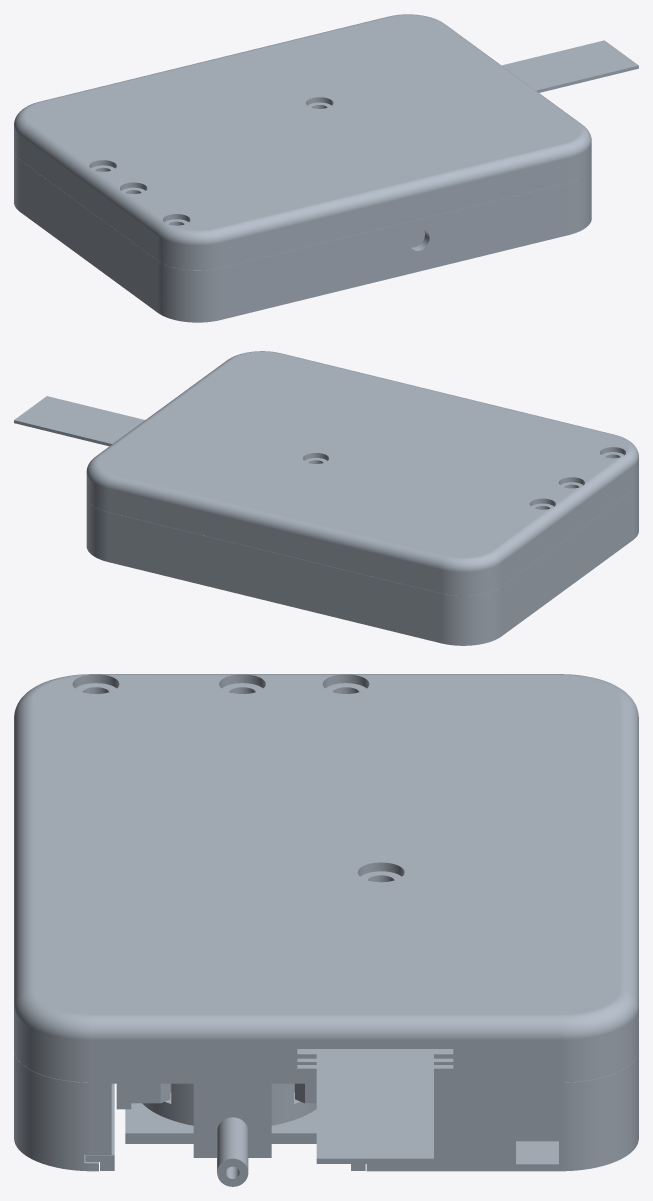
File: OP-70_assembly.glb
3 renders of one model, top to bottom at view 1: azimuth 30°, elevation 25°; view 2: azimuth 150°, elevation 25°; view 3: azimuth 270°, elevation 25°, orthographic. The views are drawn at different scales.
Visible parts, largest first — view 1: top, bottom, ffc_cable; view 2: top, bottom, ffc_cable; view 3: top, bottom, ffc_cable, cannula_adapter, dock_insert.
Part boxes in pixels (bbox=[...]): top: bbox=[14, 14, 591, 270]; bottom: bbox=[14, 152, 591, 322]; ffc_cable: bbox=[502, 40, 638, 92]; top: bbox=[86, 351, 638, 595]; bottom: bbox=[86, 483, 638, 645]; ffc_cable: bbox=[14, 396, 144, 446]; top: bbox=[14, 674, 638, 1082]; bottom: bbox=[14, 1051, 638, 1171]; ffc_cable: bbox=[316, 1049, 433, 1163]; cannula_adapter: bbox=[125, 1083, 316, 1186]; dock_insert: bbox=[85, 1083, 365, 1170].
Bounding box in the file's own units: 0.055 × 0.0084 × 0.032.
